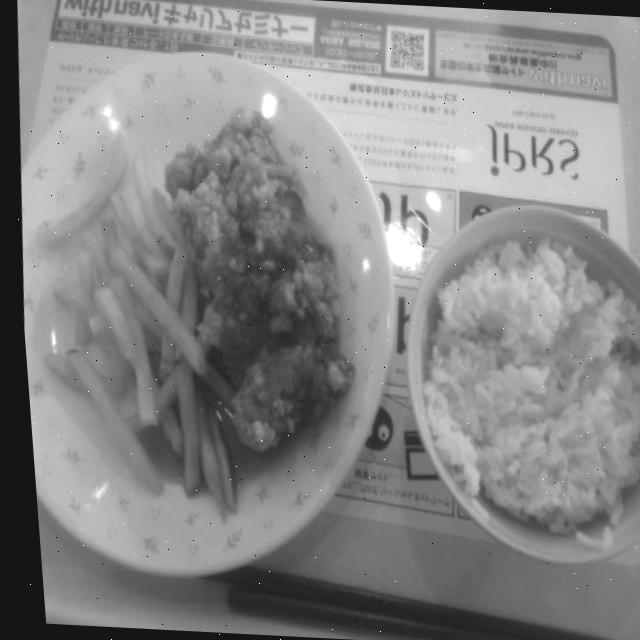炸货点心: (3, 57, 248, 572)
米饭主食: (376, 181, 640, 592)
鸡肉料理 含炸鸡: (2, 35, 429, 598)
